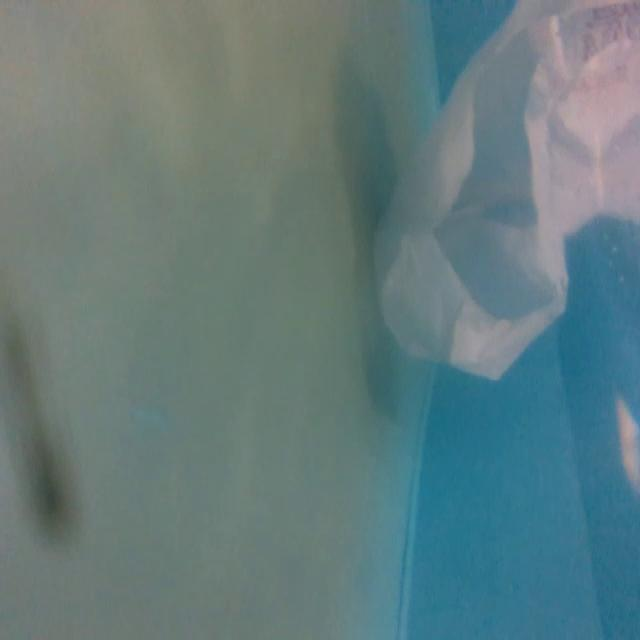plastic bags: (369, 3, 640, 388)
